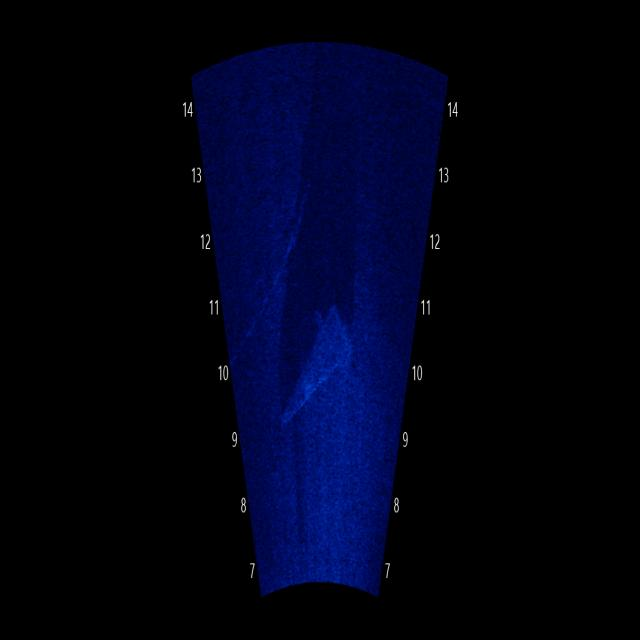triangle: (263, 277, 375, 457)
